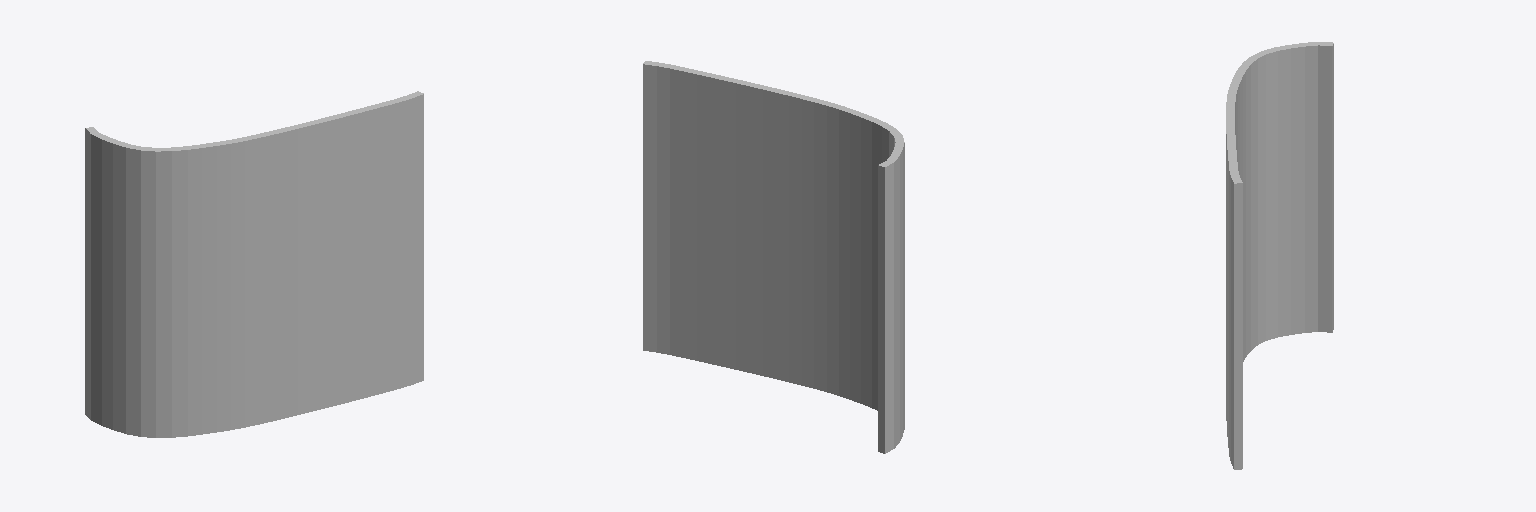
File: EdgeFold2.obj
3 renders of one model, left to right at view 1: azimuth 30°, elevation 25°; view 2: azimuth 150°, elevation 25°; view 3: azimuth 270°, elevation 25°, orthographic.
Visible parts, largest first — view 1: Cube_Cube.001; view 2: Cube_Cube.001; view 3: Cube_Cube.001.
Boxes of the visible parts, <box> form: Cube_Cube.001: <box>85,91,423,437</box>; Cube_Cube.001: <box>643,61,904,453</box>; Cube_Cube.001: <box>1226,42,1333,469</box>.
Bounding box in the file's own units: 5.06 × 4.75 × 1.62.